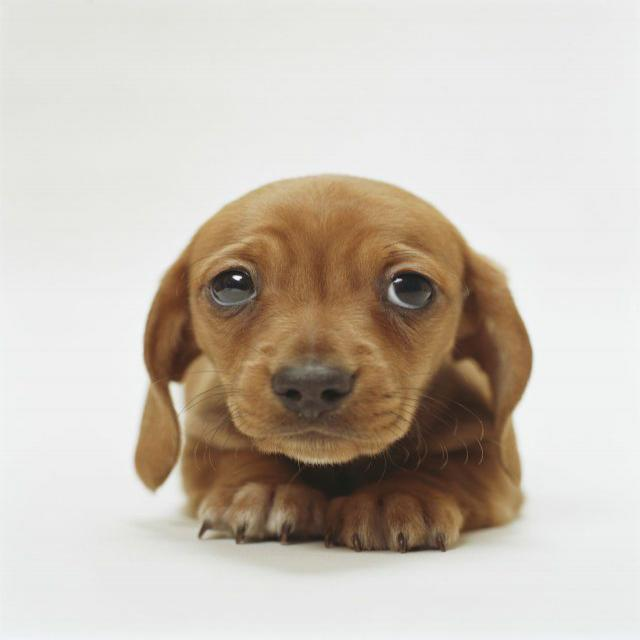eye: (380, 268, 442, 315), (204, 261, 260, 310)
